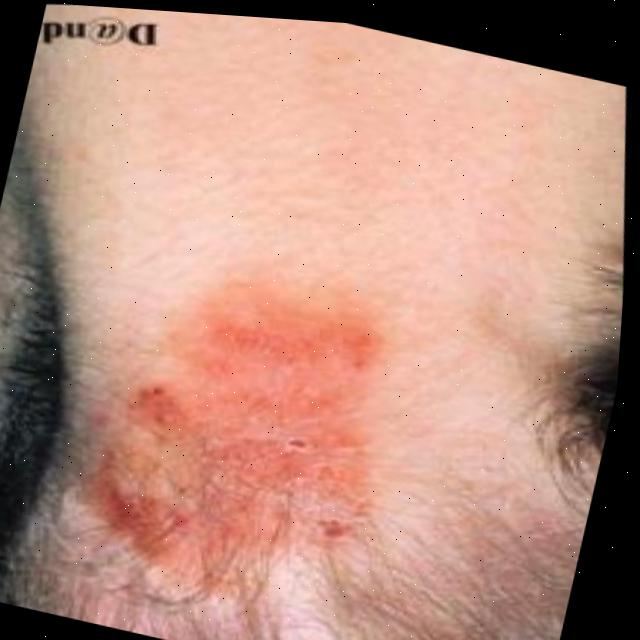Eczema: (80, 273, 411, 595)
